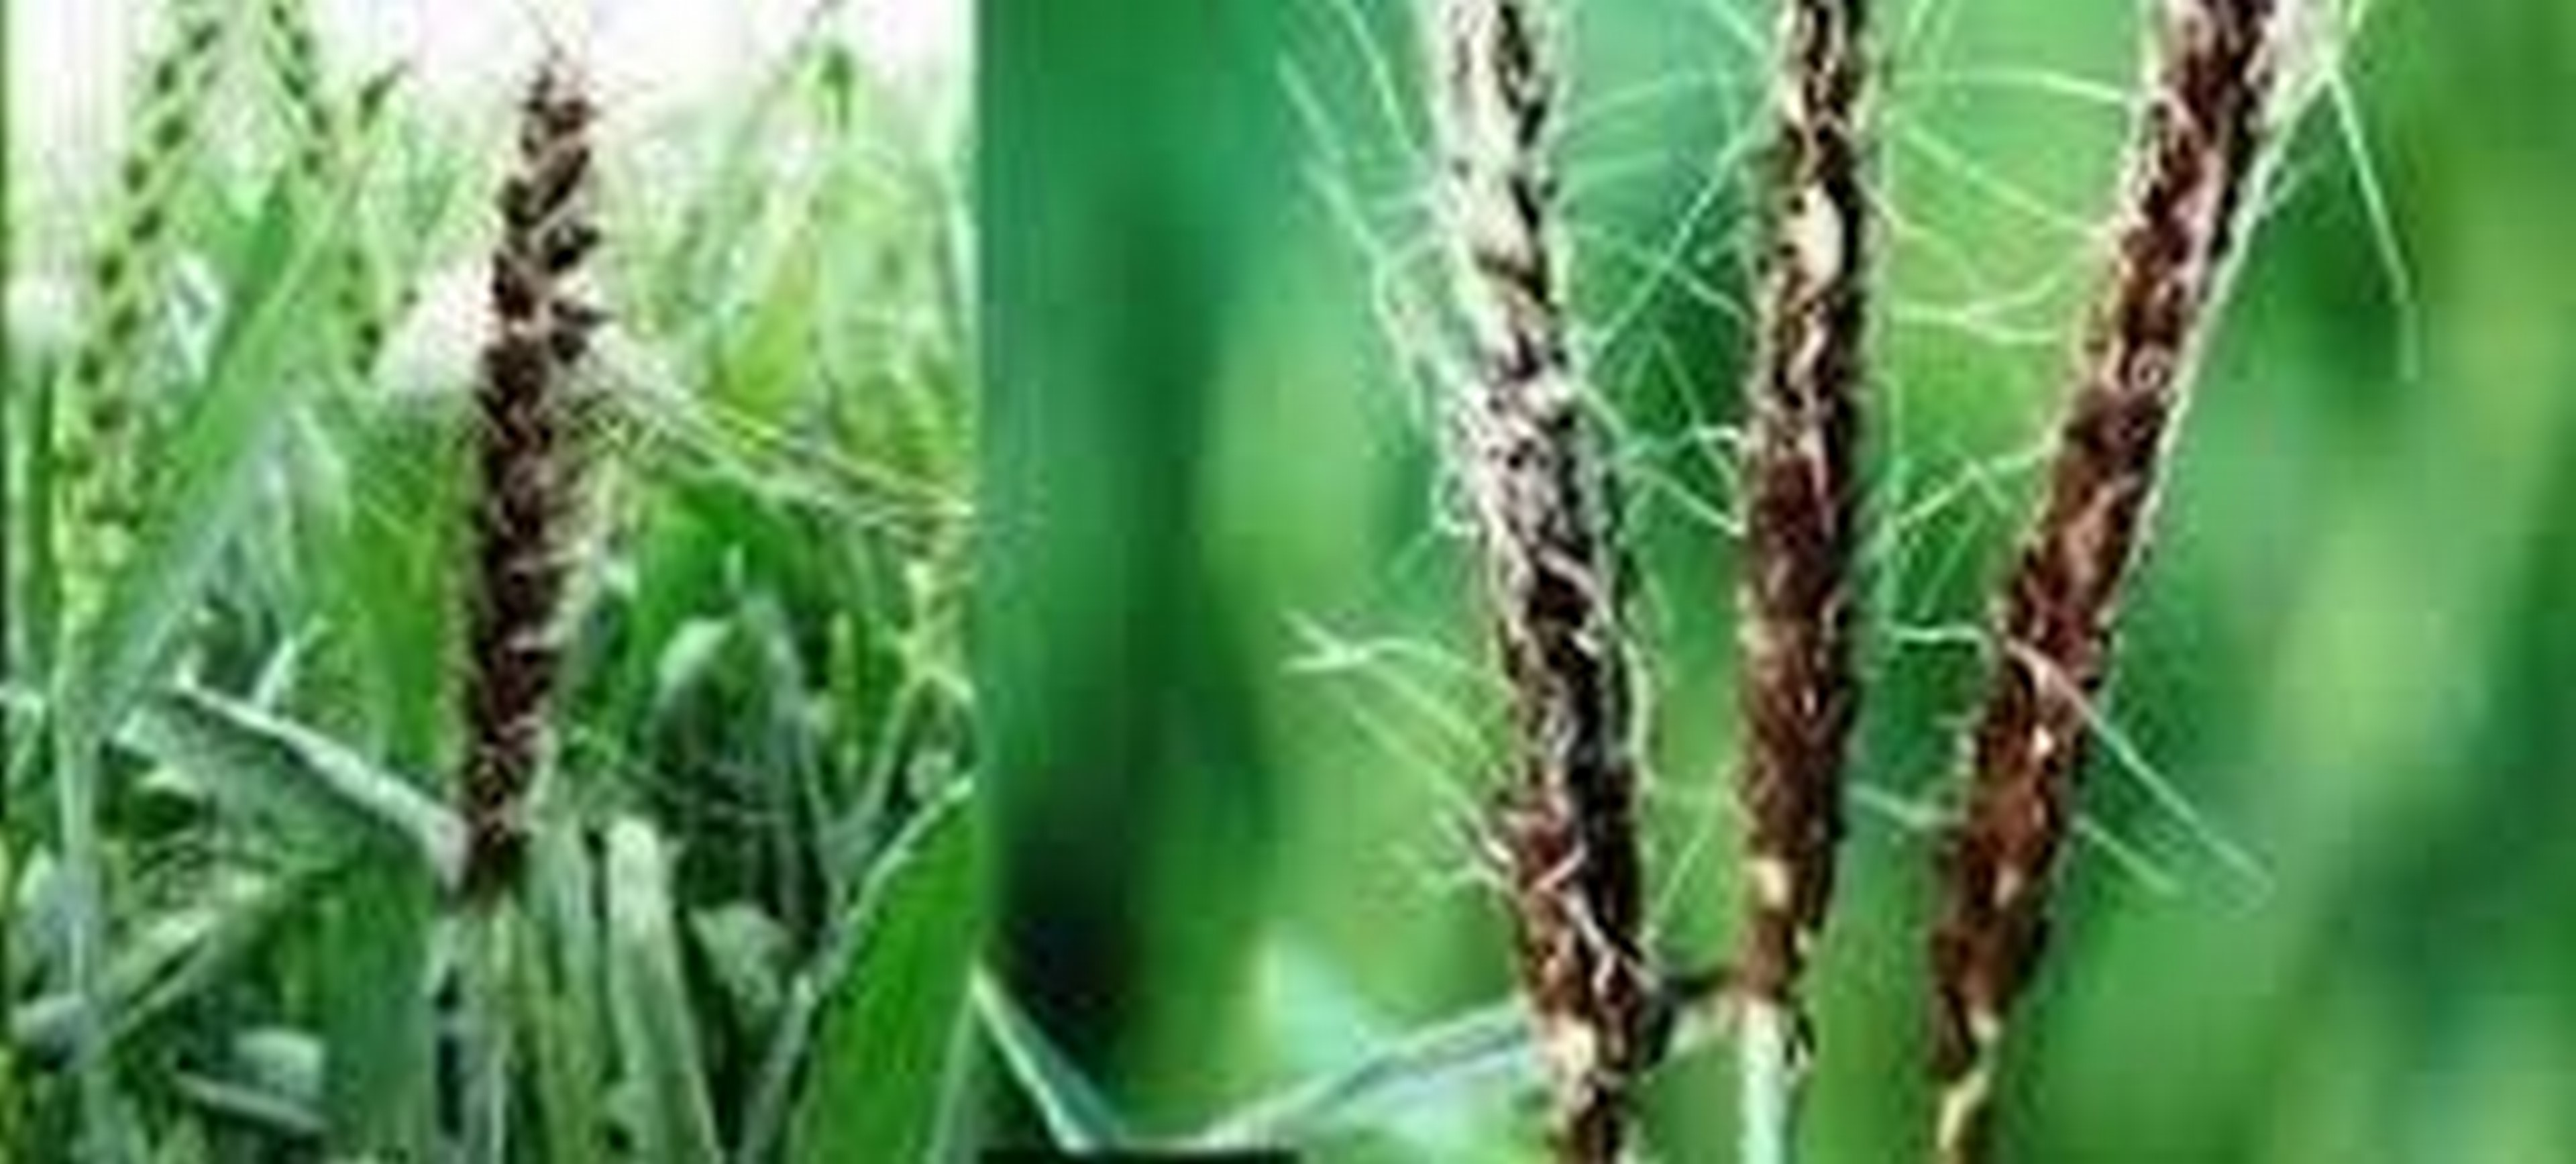Wheat Loose Smut: (1380, 53, 2290, 1037), (453, 71, 644, 791)
